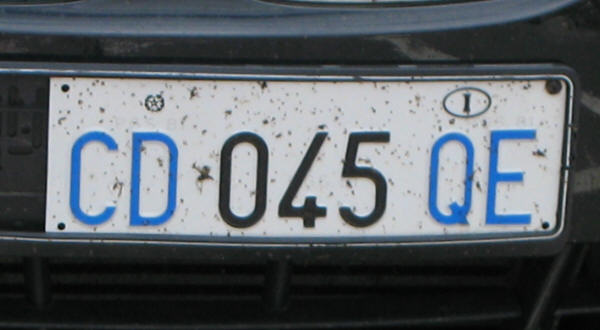license_plate: (44, 75, 570, 241)
